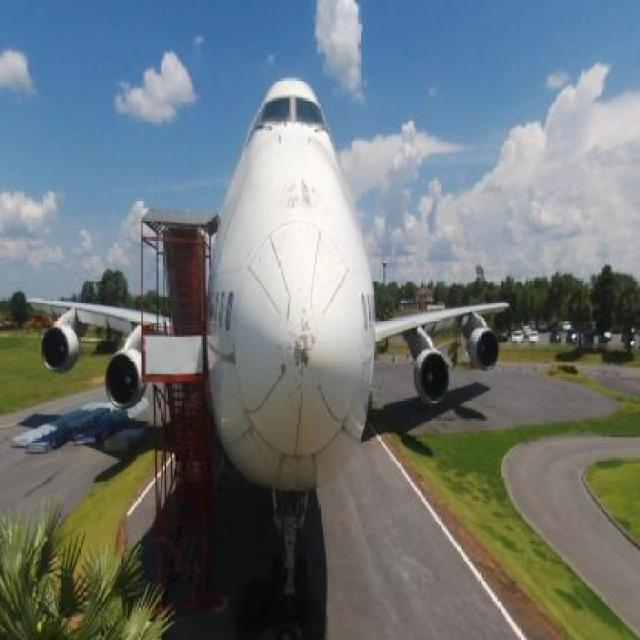Rust: (288, 321, 324, 377)
Scartch: (272, 293, 336, 415), (275, 158, 342, 232), (224, 335, 250, 382)
